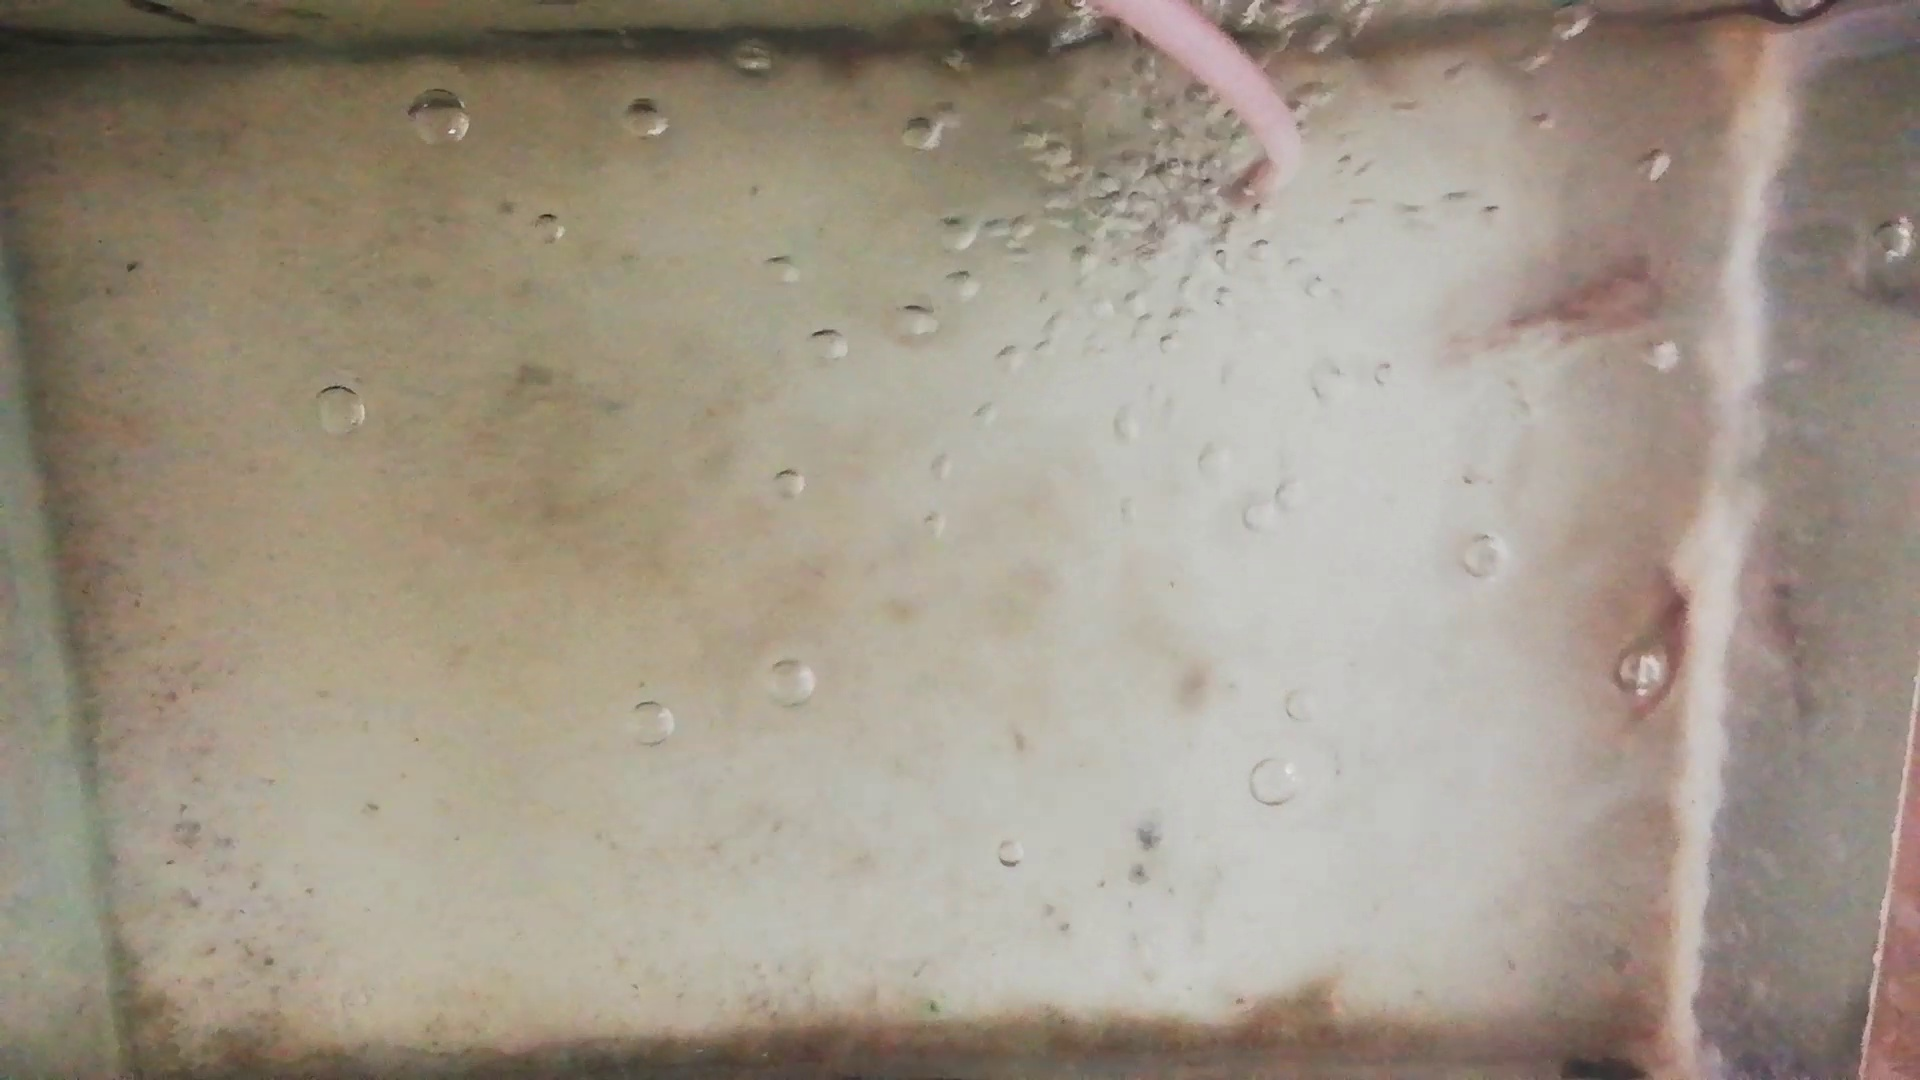fish: (1501, 253, 1680, 334), (1636, 564, 1696, 728)
